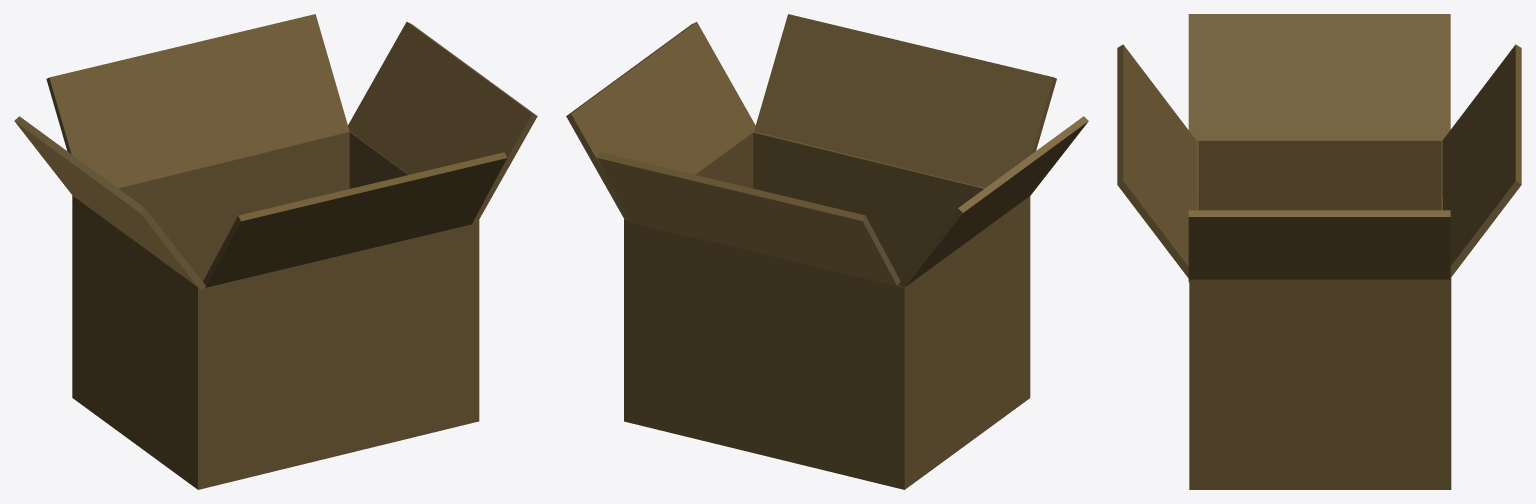
The model's file is OpenBox.fbx.
3 views of the same model, side by side, from view 1: azimuth 30°, elevation 25°; view 2: azimuth 150°, elevation 25°; view 3: azimuth 270°, elevation 25° (orthographic). The views are drawn at different scales.
Parts seen in each view (by area): view 1: OpenBox; view 2: OpenBox; view 3: OpenBox.
Part boxes in pixels (x1,y1,x2,y2): OpenBox: [14, 14, 537, 489]; OpenBox: [566, 14, 1088, 489]; OpenBox: [1117, 14, 1521, 489].
Size of the model in its own units: 1.82 by 1.29 by 1.55.
